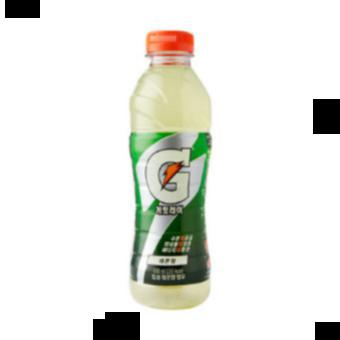gatorade_lemon: (111, 25, 217, 314)
